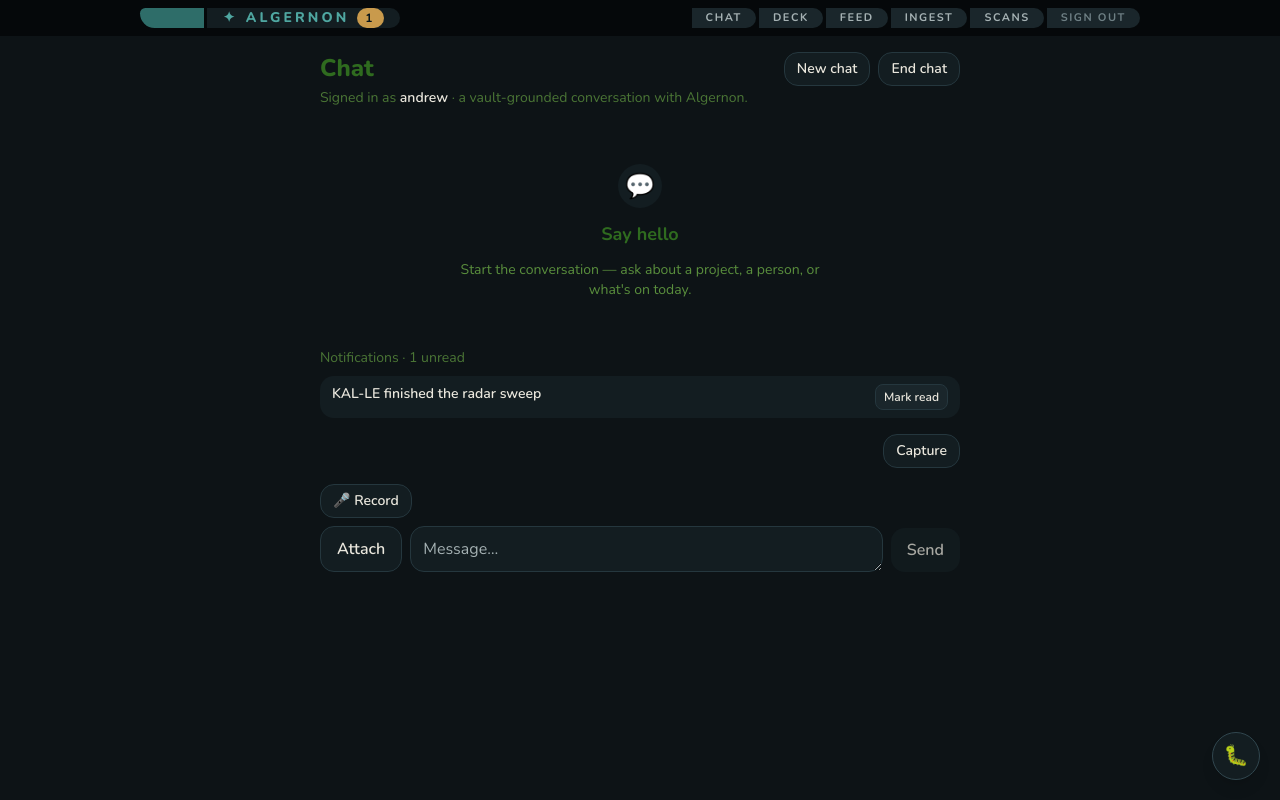
Test: /chat — a refused Mark-read reaches the operator › renders the failure line on the row, in the server’s own words
This screenshot has width=1280, height=800.
Check: the list item with test id "notification-item" is shown, box [320,376,960,418]
Click the button with test id "notification-ack".
click(912, 397)  # box [875,384,948,410]
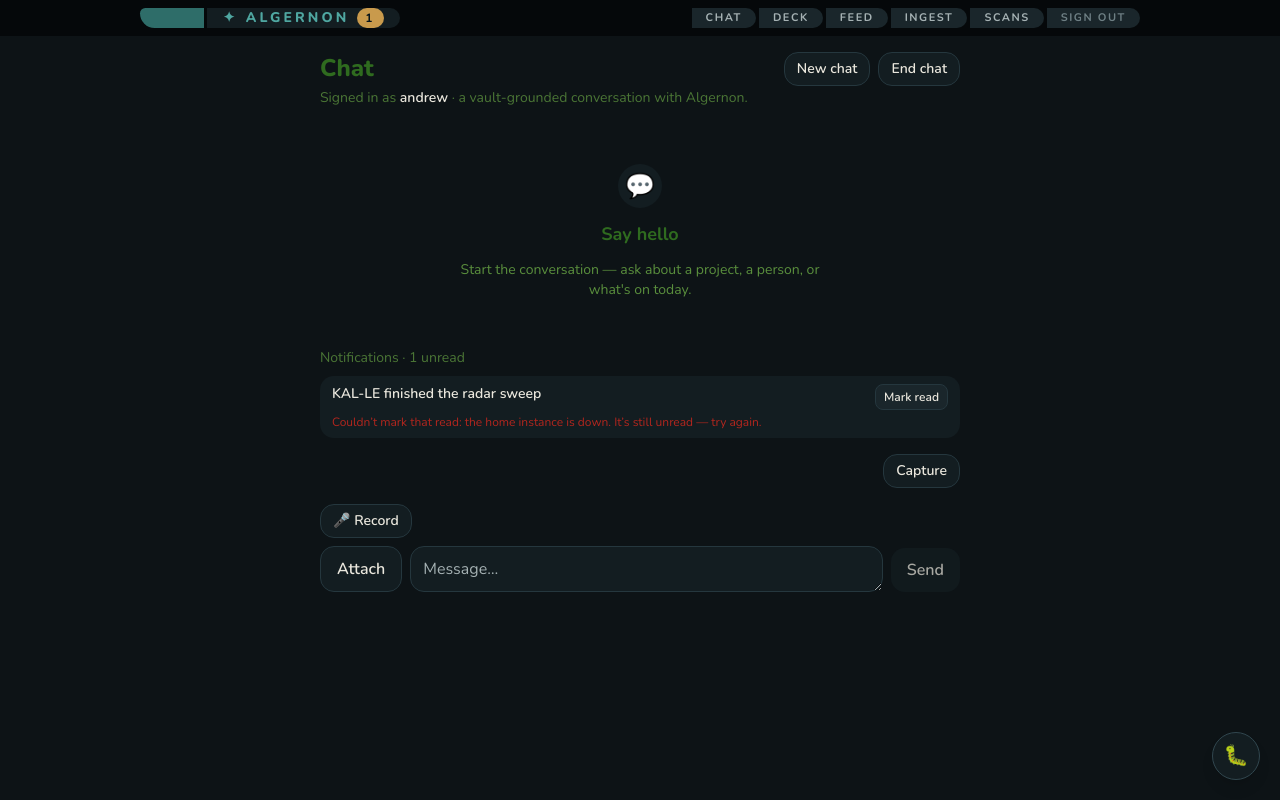
Check: the message with test id "notification-failure" shows "the home instance is down", box [332,414,762,430]
Check: the message with test id "notification-failure" shows "still unread", box [332,414,762,430]
